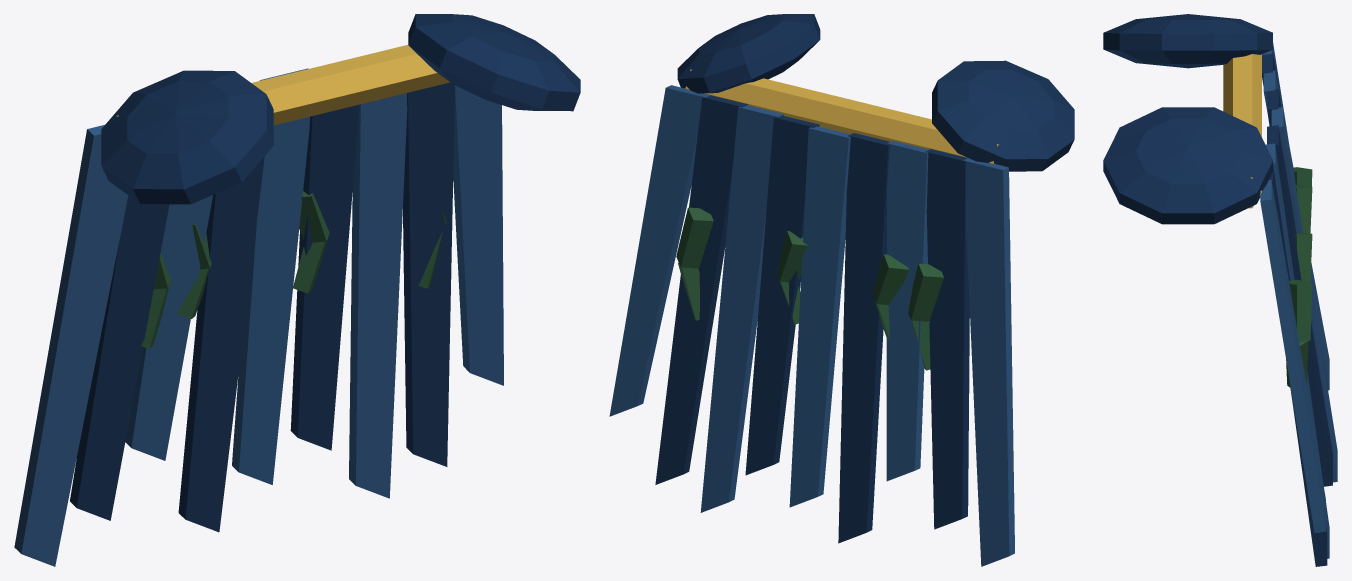
The model's file is tide_knight_cloak.glb.
The picture shows the model from 3 angles, left to right: view 1: azimuth 30°, elevation 25°; view 2: azimuth 150°, elevation 25°; view 3: azimuth 270°, elevation 25°; orthographic projection. The views are drawn at different scales.
Visible parts, largest first — view 1: tide_knight_cloak; view 2: tide_knight_cloak; view 3: tide_knight_cloak.
Boxes of the visible parts, x1,y1,x2,y2 form: tide_knight_cloak: (14,14,580,566); tide_knight_cloak: (609,14,1074,566); tide_knight_cloak: (1103,14,1337,566).
Size of the model in its own units: 1.2 by 1.25 by 0.6036.
